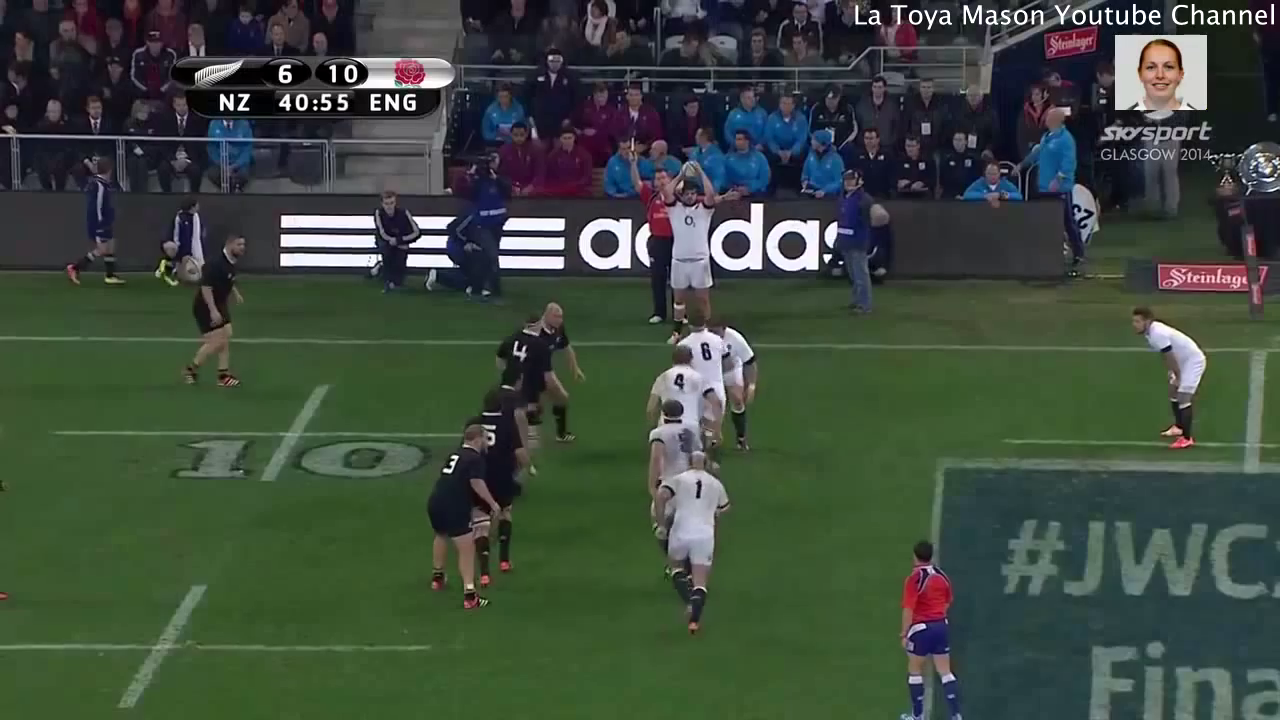10_metre: (1, 578, 436, 712)
ball: (680, 151, 706, 181)
lineout: (415, 218, 764, 659)
player: (42, 377, 521, 492), (869, 534, 979, 720), (645, 445, 738, 644), (414, 415, 505, 618), (165, 223, 261, 395), (1119, 303, 1215, 463), (465, 381, 527, 594), (659, 153, 722, 351), (659, 308, 737, 442), (626, 391, 723, 494), (630, 336, 722, 444), (530, 292, 593, 445), (473, 363, 541, 497), (699, 313, 764, 452), (487, 309, 551, 435)
